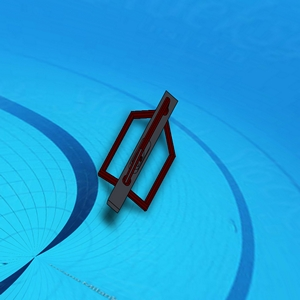submarine: (97, 88, 182, 211)
